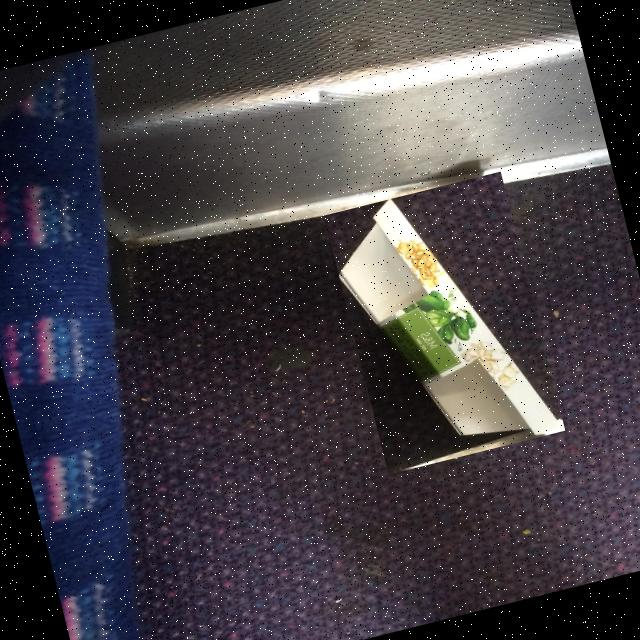Meal carton: (339, 199, 564, 436)
